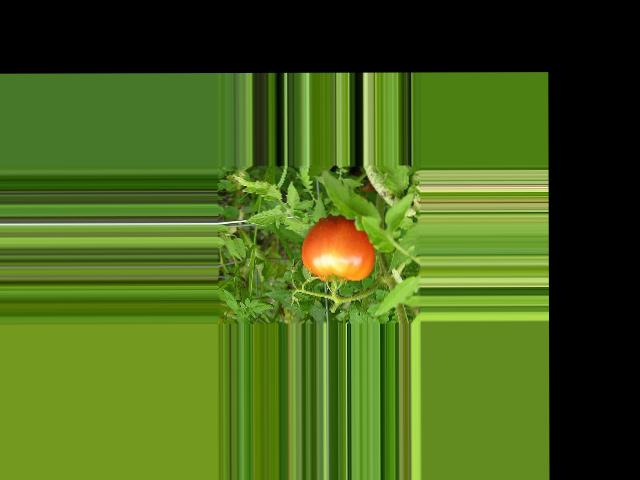tomato: (301, 216, 374, 281)
